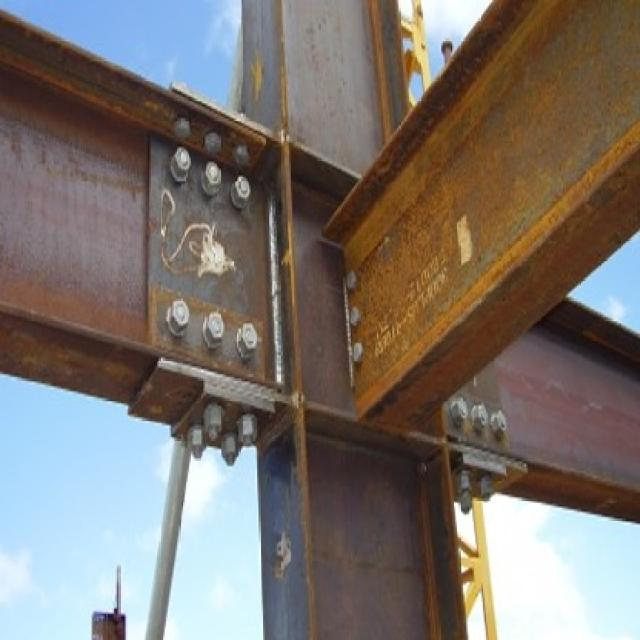Regular bolt: (165, 295, 194, 340), (201, 309, 230, 354), (237, 319, 263, 362), (169, 144, 196, 185), (466, 397, 494, 436), (229, 174, 255, 215), (493, 403, 514, 446), (202, 159, 224, 200), (454, 396, 471, 423)
